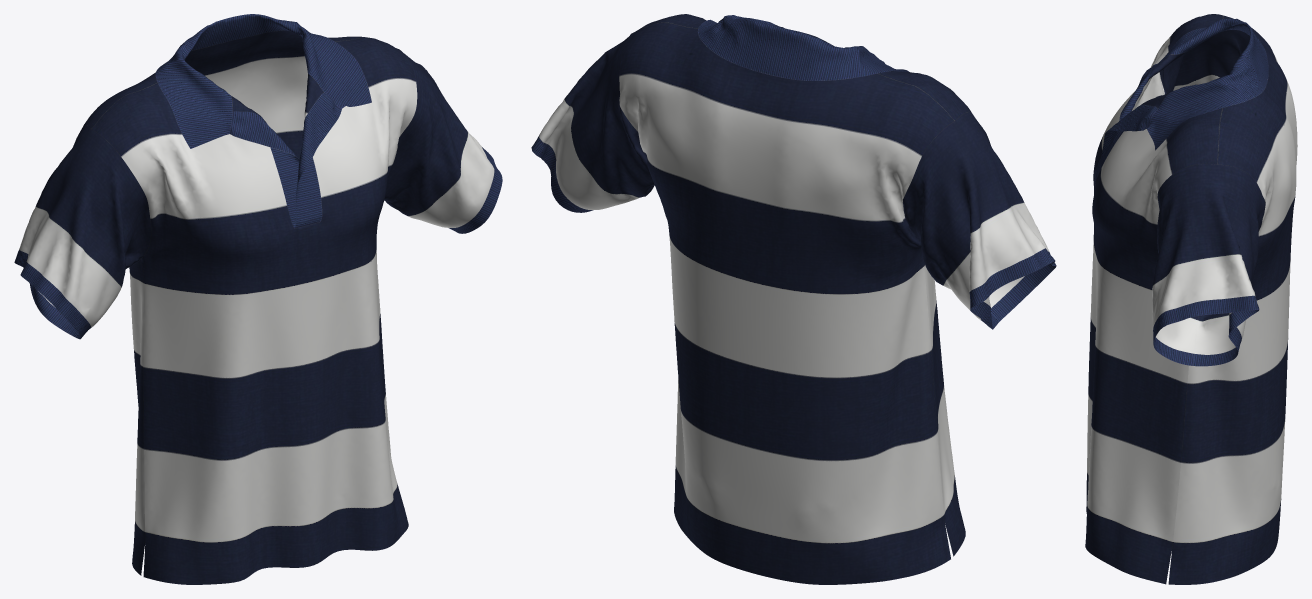
The model's file is shirt01.glb.
The picture shows the model from 3 angles, left to right: view 1: azimuth 30°, elevation 25°; view 2: azimuth 150°, elevation 25°; view 3: azimuth 270°, elevation 25°; orthographic projection. The views are drawn at different scales.
Parts seen in each view (by area): view 1: AM_102_035_003; view 2: AM_102_035_003; view 3: AM_102_035_003.
Part boxes in pixels (left/top/right/bottom): AM_102_035_003: left=14, top=14, right=502, bottom=584; AM_102_035_003: left=531, top=14, right=1056, bottom=584; AM_102_035_003: left=1085, top=14, right=1297, bottom=584.
Size of the model in its own units: 0.7193 by 0.756 by 0.2912.
Materials: 1 (1 with a texture image).
